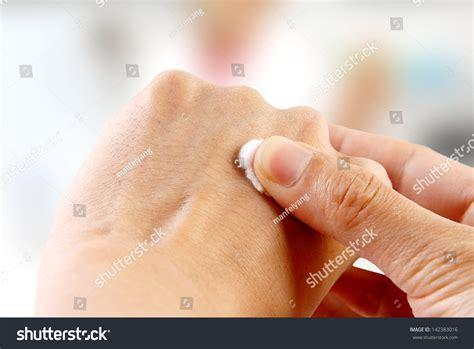cotton: (238, 137, 284, 196)
